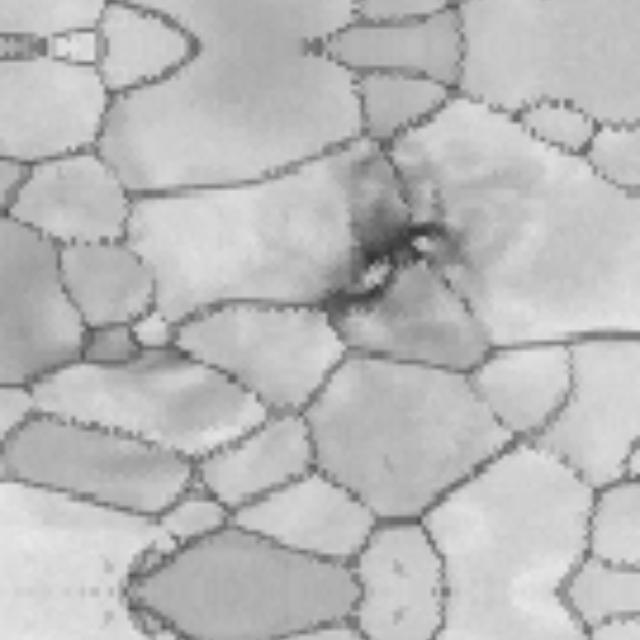good_void: (268, 150, 531, 353)
